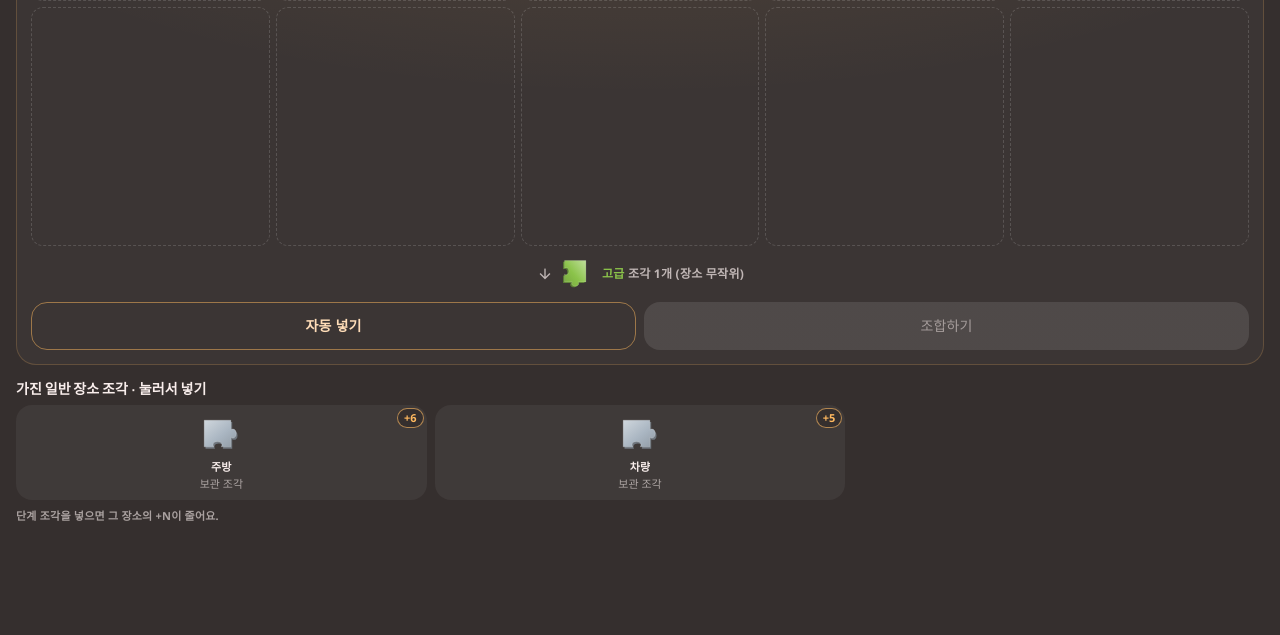
Test: CombinePage › 자동 넣기 fills all ten slots at once
(page scrolled)
Click the button "자동 넣기" at (334, 326), box [31, 302, 636, 350]
(page scrolled)
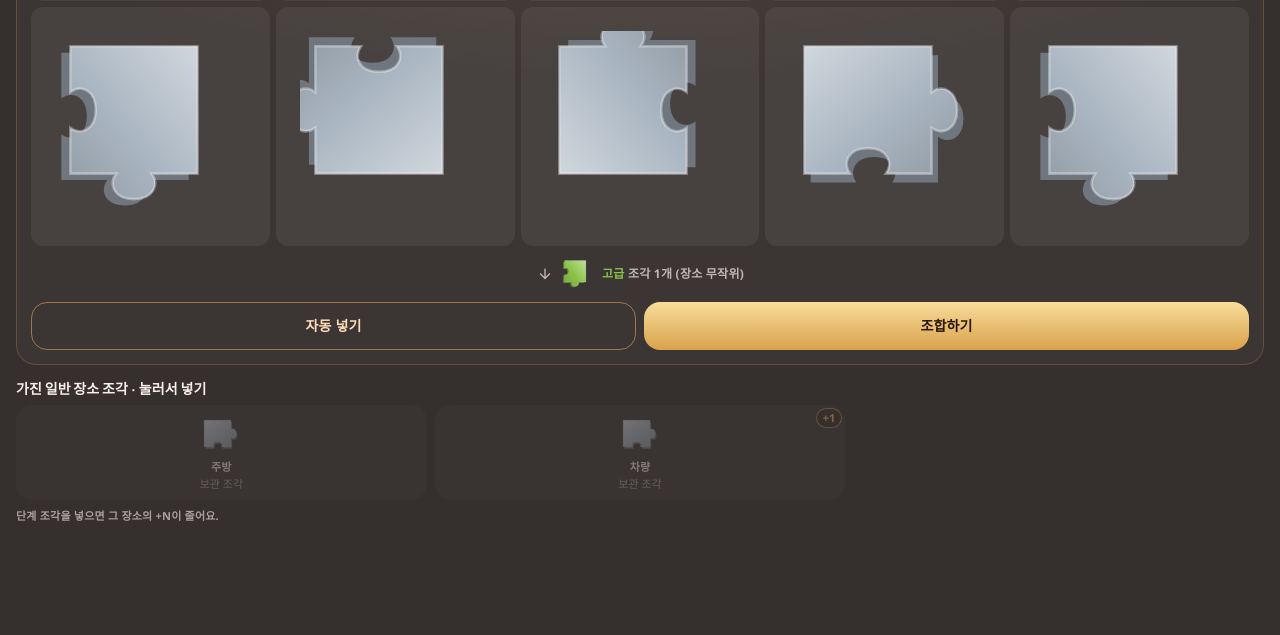
Expected: the button "조합하기" is enabled, [644, 302, 1249, 350]
